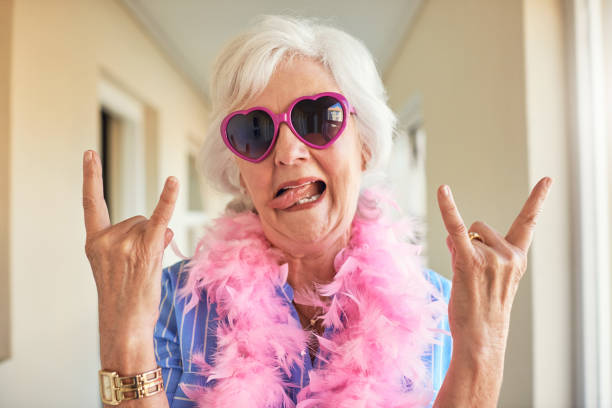Rock On: (68, 142, 208, 316), (438, 172, 557, 347)
